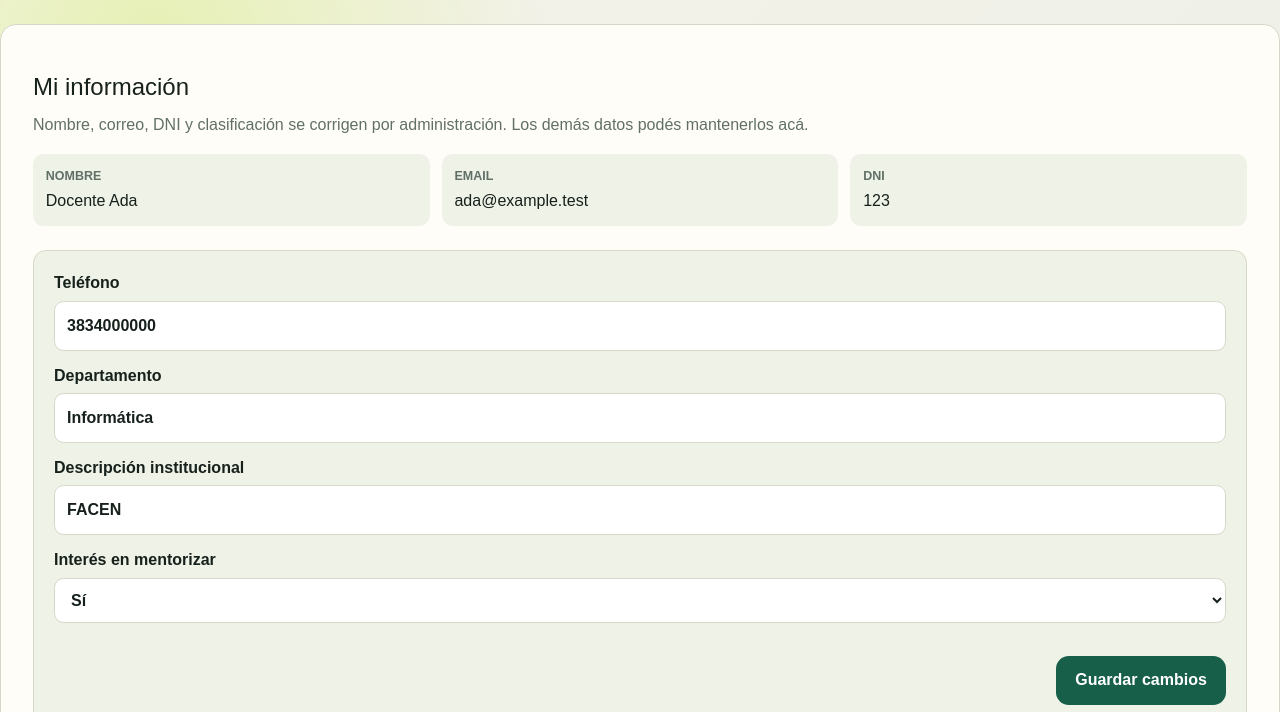
Scenario: participant portal components › renders protected identity as read-only, role fields and submits the observed version
Expected: the text "Docente Ada" is shown, [46, 192, 137, 209]
Step 1. Replace the text in the field labelled "Teléfono" with "3834111111" → {"x": 640, "y": 326}, box [54, 301, 1226, 351]
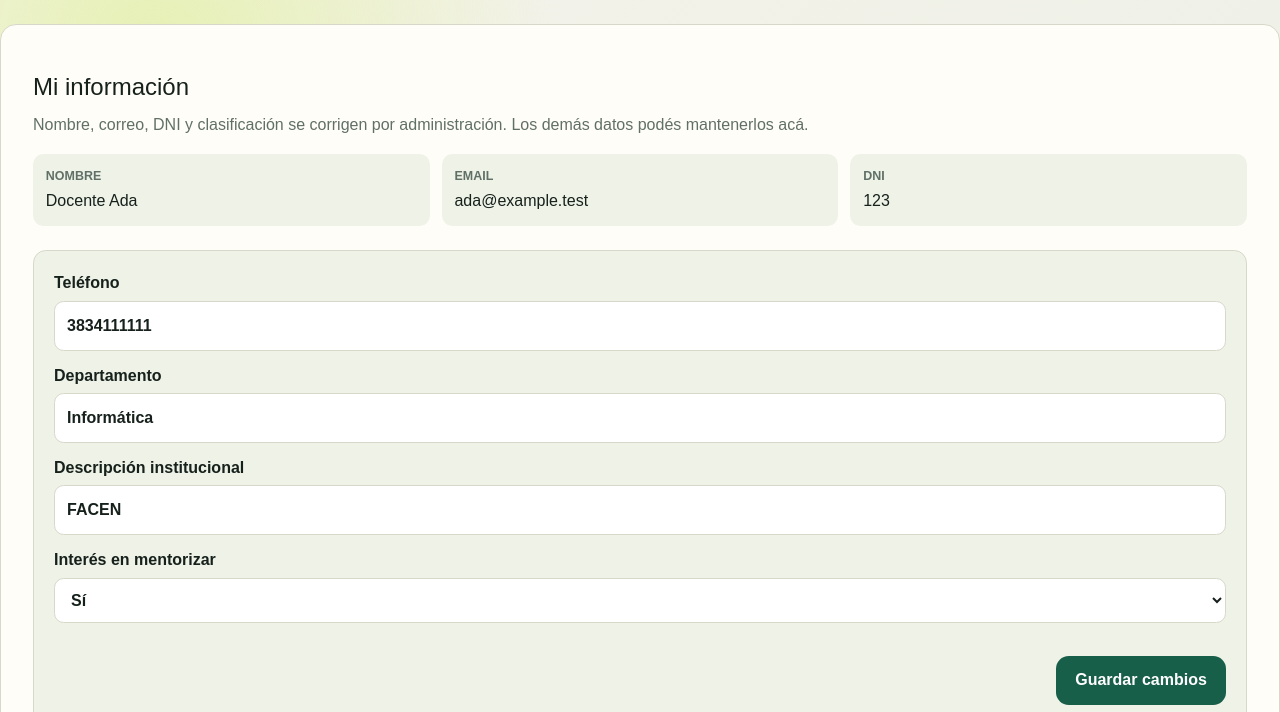
Step 2. Click the button "Guardar cambios" → {"x": 1141, "y": 680}, box [1056, 656, 1226, 705]
(page scrolled)
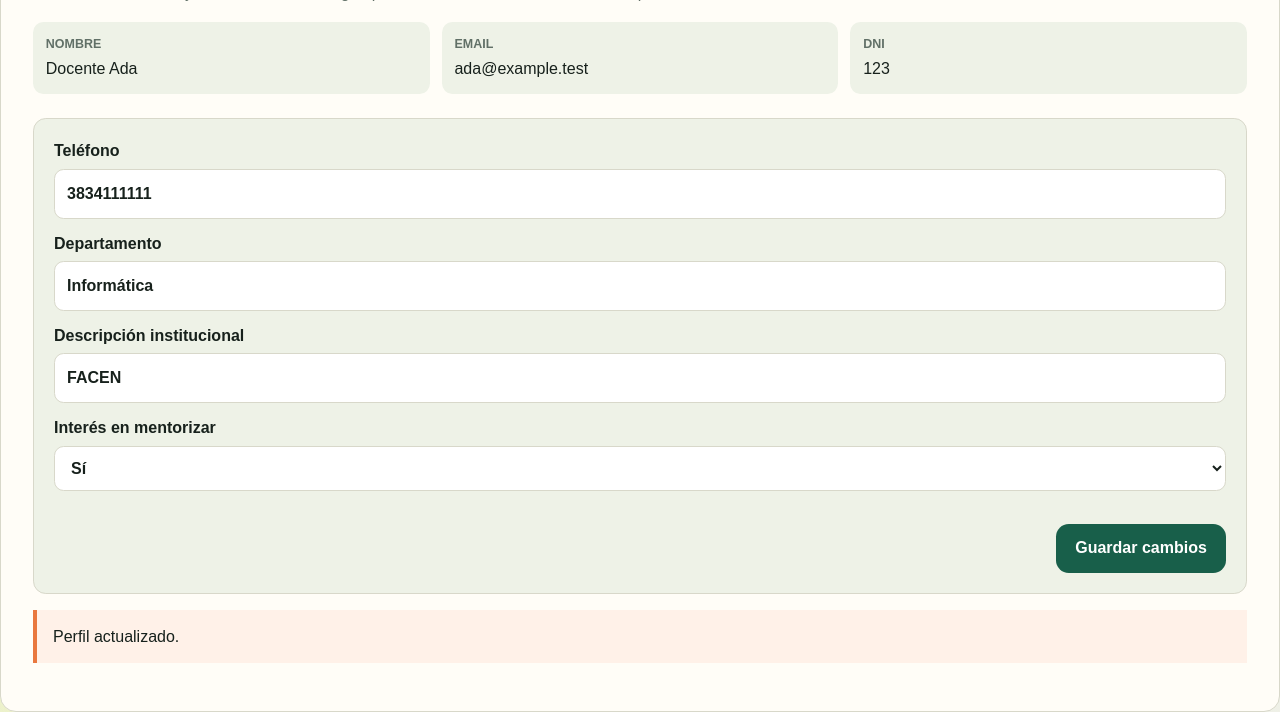
Now the text "Perfil actualizado." is shown, box [33, 610, 1247, 663]
